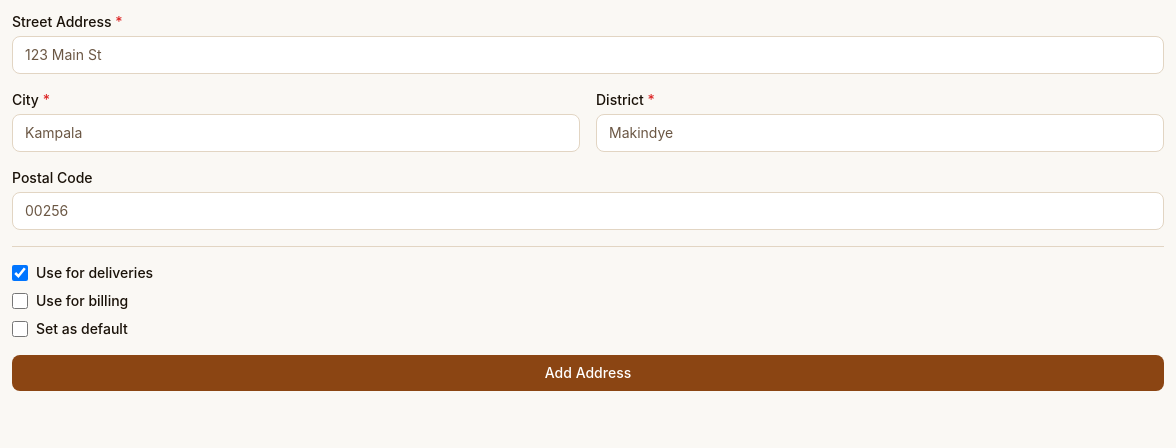
AddressForm › validates required street_address field
Click the button "Add Address" at coordinates (588, 373), box x1=12 y1=355 x2=1164 y2=391
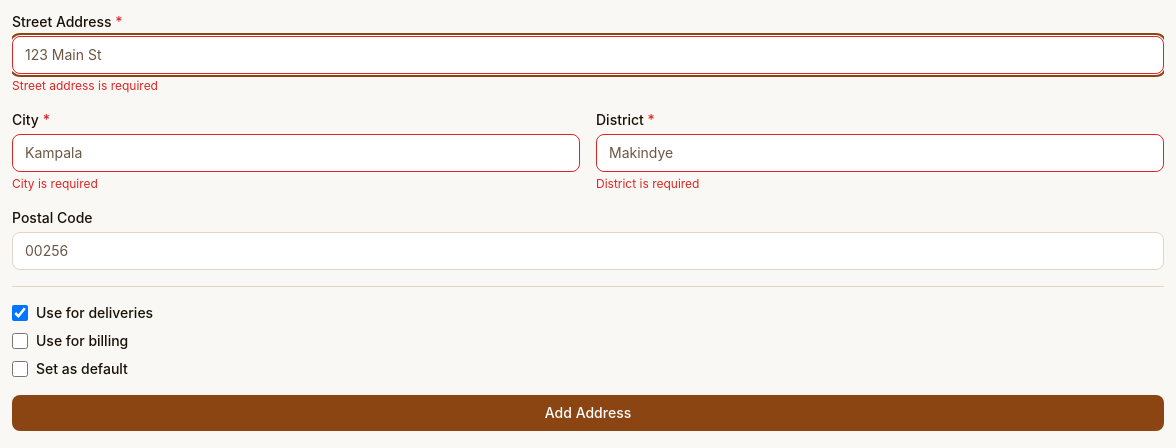
Expected: the text "Street address is required" is shown, x1=12 y1=78 x2=158 y2=93
